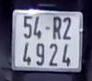2: (62, 16, 72, 43), (48, 43, 59, 67)
4: (22, 41, 33, 67), (61, 42, 71, 68), (33, 14, 42, 42)
5: (22, 14, 33, 39)
9: (34, 42, 45, 67)
R: (51, 15, 62, 41)
